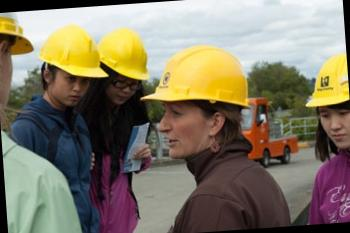helmet: (135, 40, 254, 118), (36, 20, 112, 84), (96, 25, 152, 82), (300, 50, 350, 113), (0, 10, 33, 57)
no_wear: (161, 151, 289, 233), (0, 129, 81, 233), (86, 112, 141, 233), (19, 100, 94, 172), (305, 153, 350, 224)
